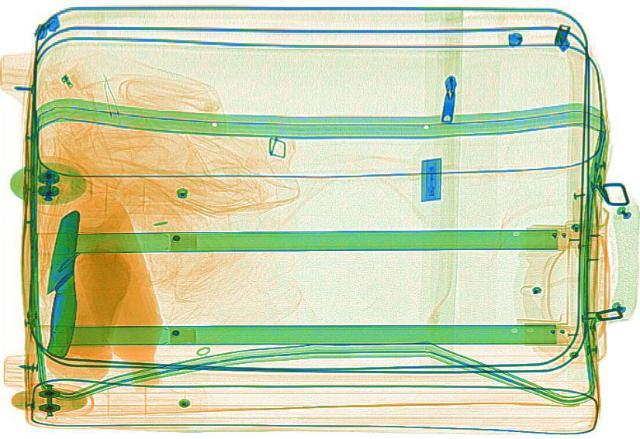Knife: (41, 209, 84, 356)
